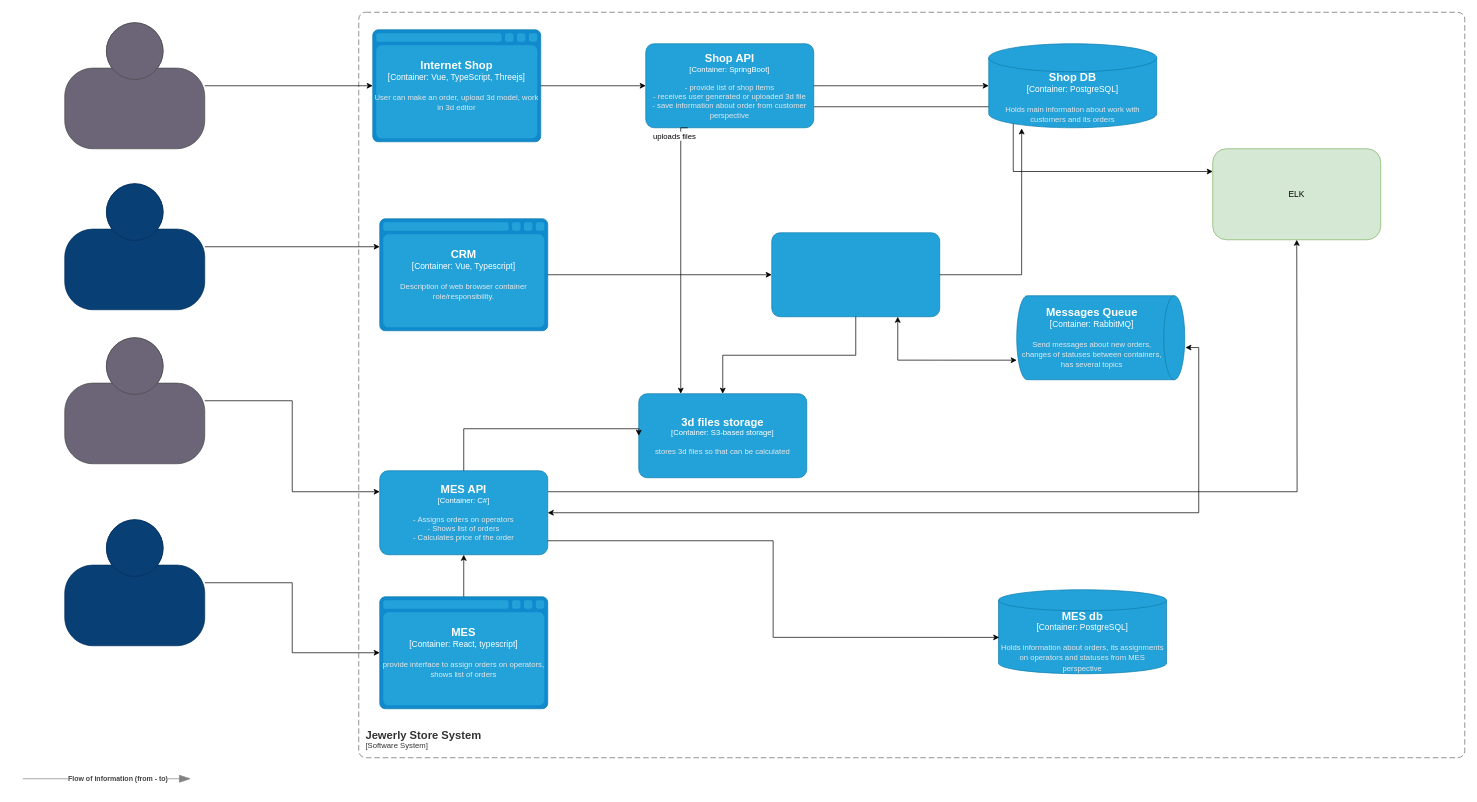
The diagram is 1477 pixels wide and 802 high, and some of its shapes have lost their labels. The box of each missing label's shape, as (x1, y1, x2, y2) in pixels:
API user [Person] Description of external person.: (64, 337, 205, 464)
CRM API [Container: SpringBoot] Description of container role/responsibility.: (771, 232, 940, 317)
Customer [Person] Description of external person.: (64, 22, 205, 149)
Operator [Person] Takes order in work, manufactures jewerly: (64, 519, 205, 646)
Seller [Person] Operates with order, confirms manufacturing for the user: (64, 183, 205, 310)
